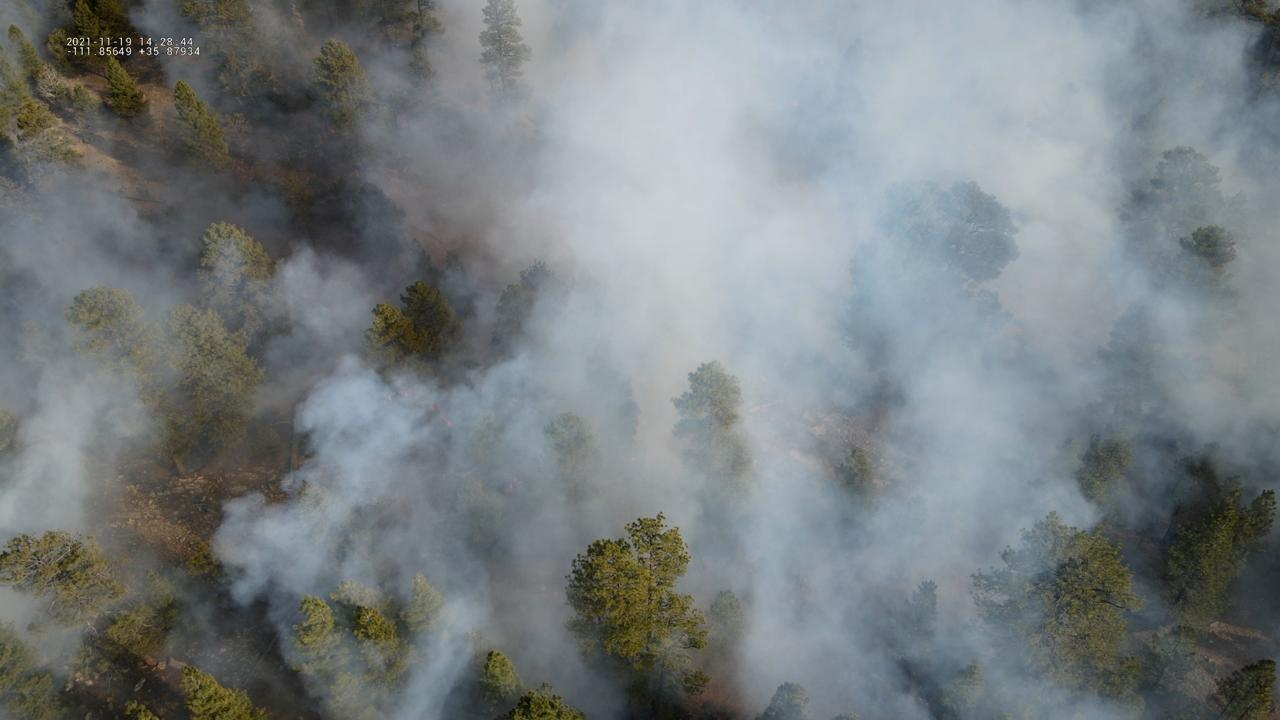fire: (439, 412, 453, 429)
smoke: (0, 0, 1280, 720)
